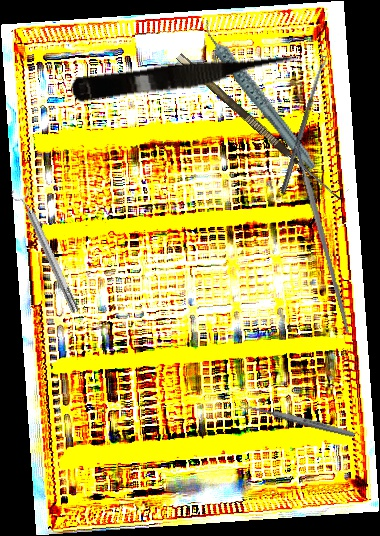Fixation Ring: (9, 183, 85, 317)
Handpiece: (200, 2, 319, 187)
Hook Surgical: (175, 44, 350, 204)
Micro Scissor: (69, 45, 305, 108)
Scalpel Handle: (294, 144, 352, 334)
Surgical Spoon: (280, 55, 328, 195), (238, 400, 356, 439)
